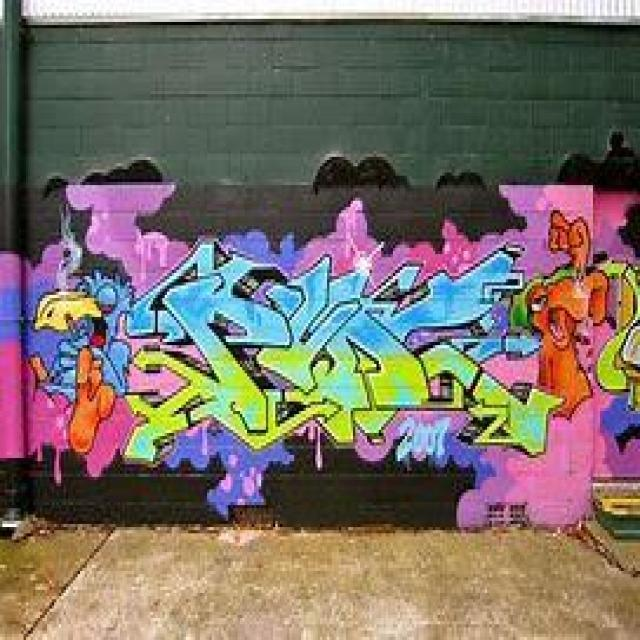nonspitting: (123, 242, 562, 467)
spitting: (508, 216, 640, 424), (30, 264, 128, 454)
